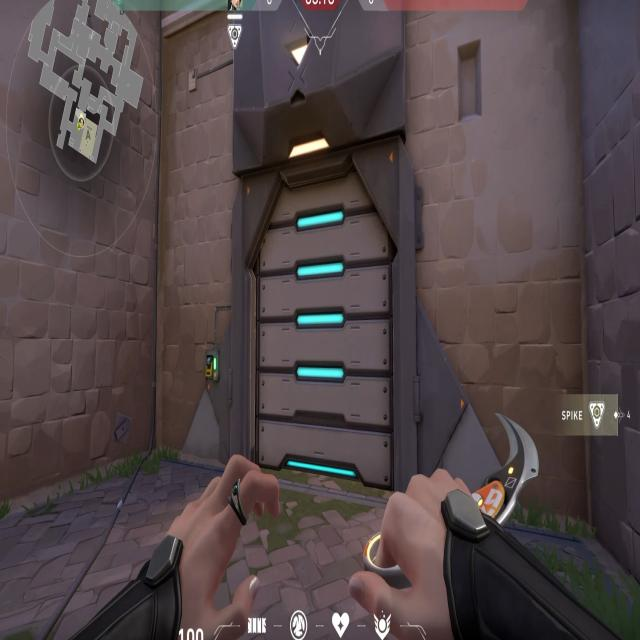A_Door: (239, 171, 407, 493)
